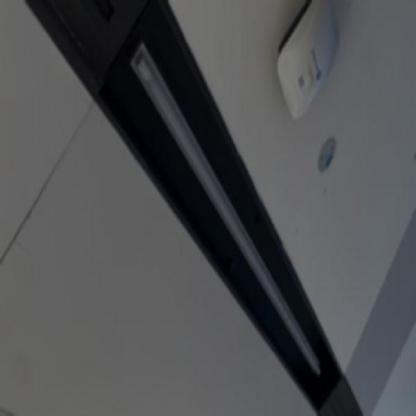light_off: (127, 32, 327, 382)
